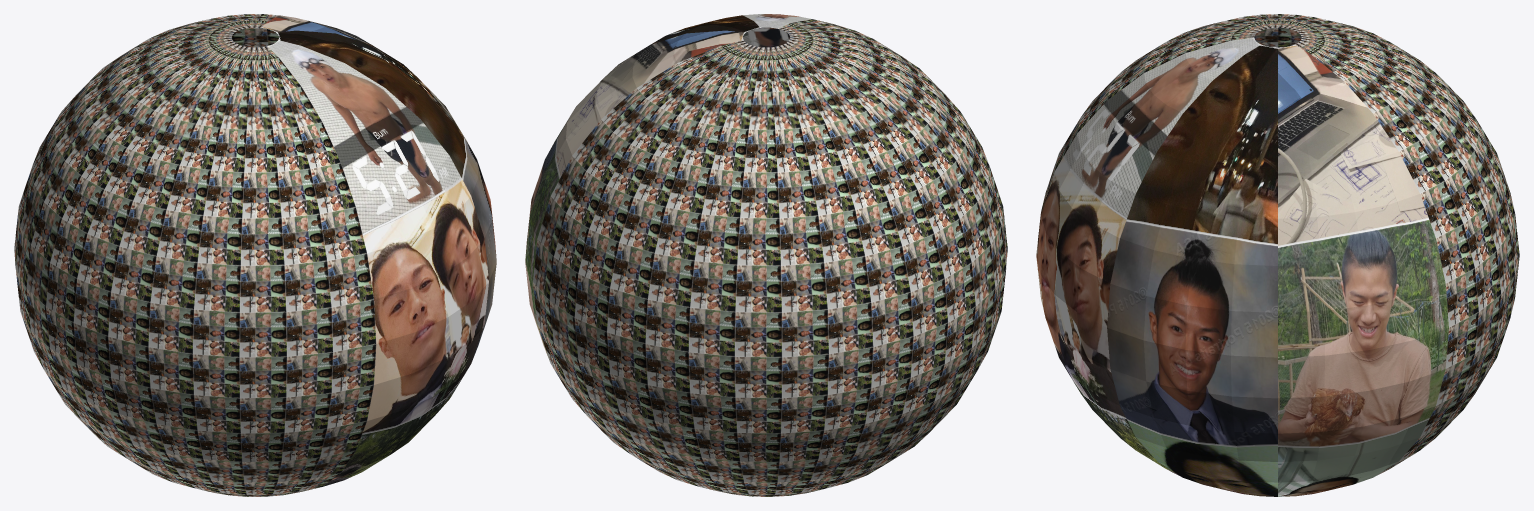
The model's file is smallerCollage.dae.
3 renders of one model, left to right at view 1: azimuth 30°, elevation 25°; view 2: azimuth 150°, elevation 25°; view 3: azimuth 270°, elevation 25°, orthographic.
Visible parts, largest first — view 1: Sphere; view 2: Sphere; view 3: Sphere.
Part boxes in pixels (x1,y1,x2,y2): Sphere: [14, 14, 496, 496]; Sphere: [525, 14, 1007, 496]; Sphere: [1036, 14, 1519, 496].
Bounding box in the file's own units: 2 × 2 × 1.99.
1 material, 1 textured.
